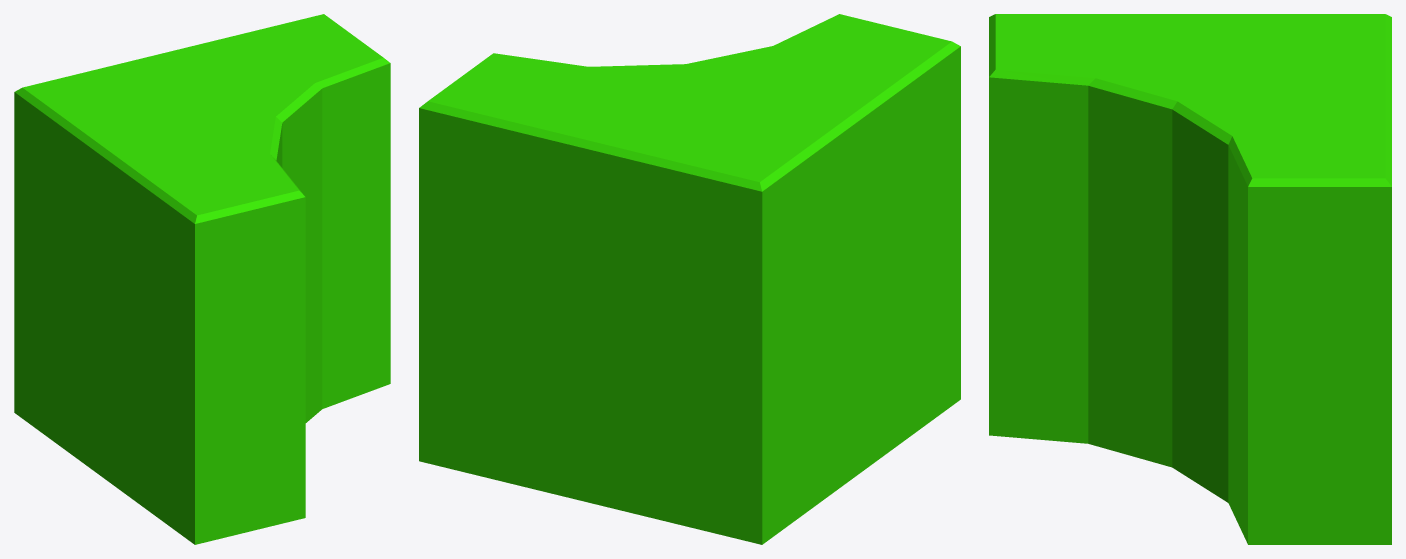
Rendered from round_3x3_03.fbx.
3 views of the same model, side by side, from view 1: azimuth 30°, elevation 25°; view 2: azimuth 150°, elevation 25°; view 3: azimuth 270°, elevation 25° (orthographic). The views are drawn at different scales.
Parts seen in each view (by area): view 1: round_3x3_03; view 2: round_3x3_03; view 3: round_3x3_03.
Part boxes in pixels (box(x1,y1,x2,y2)): round_3x3_03: box(14, 14, 390, 544); round_3x3_03: box(419, 14, 960, 544); round_3x3_03: box(989, 14, 1391, 544).
Size of the model in its own units: 310 by 310 by 311.
